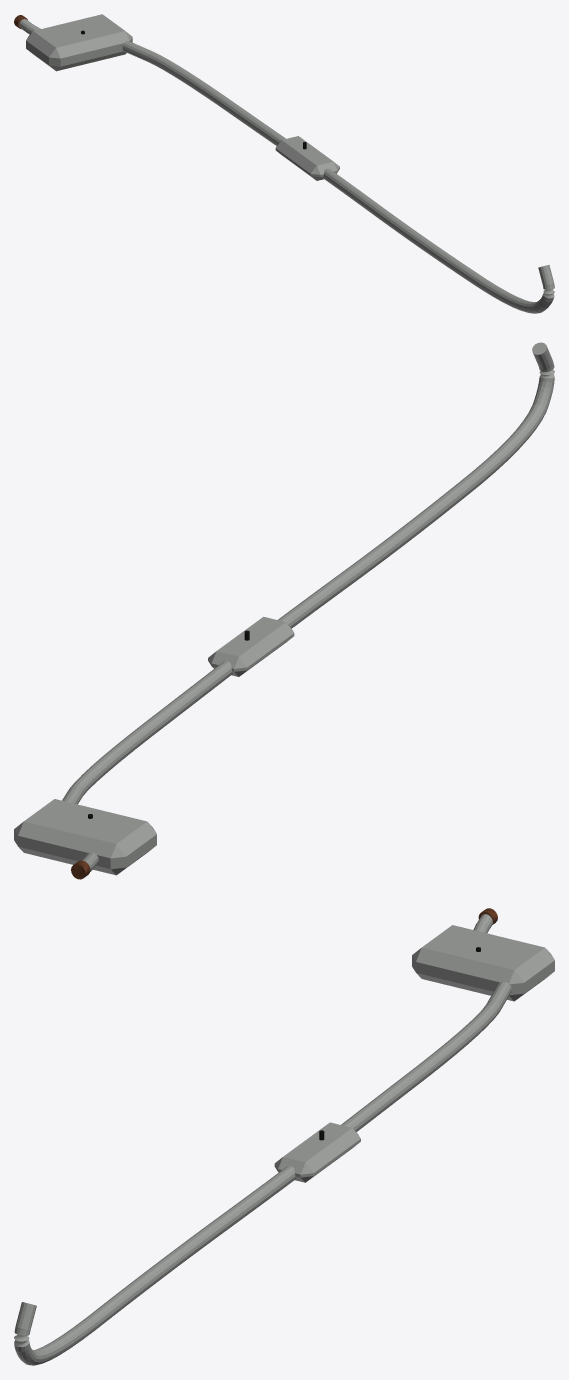
Rendered from escapamento_curto.glb.
The picture shows the model from 3 angles, top to bottom: view 1: azimuth 30°, elevation 25°; view 2: azimuth 150°, elevation 25°; view 3: azimuth 330°, elevation 25°; orthographic projection. The views are drawn at different scales.
Visible parts, largest first — view 1: escapamento_curto_aco_galv; view 2: escapamento_curto_aco_galv; view 3: escapamento_curto_aco_galv.
Boxes of the visible parts, box(x1,y1,x2,y2) form: escapamento_curto_aco_galv: box(19, 14, 554, 313); escapamento_curto_aco_galv: box(14, 342, 554, 875); escapamento_curto_aco_galv: box(14, 914, 554, 1365).
Bounding box in the file's own units: 0.524 × 0.3168 × 3.66.
Materials: 3 (1 with a texture image).
